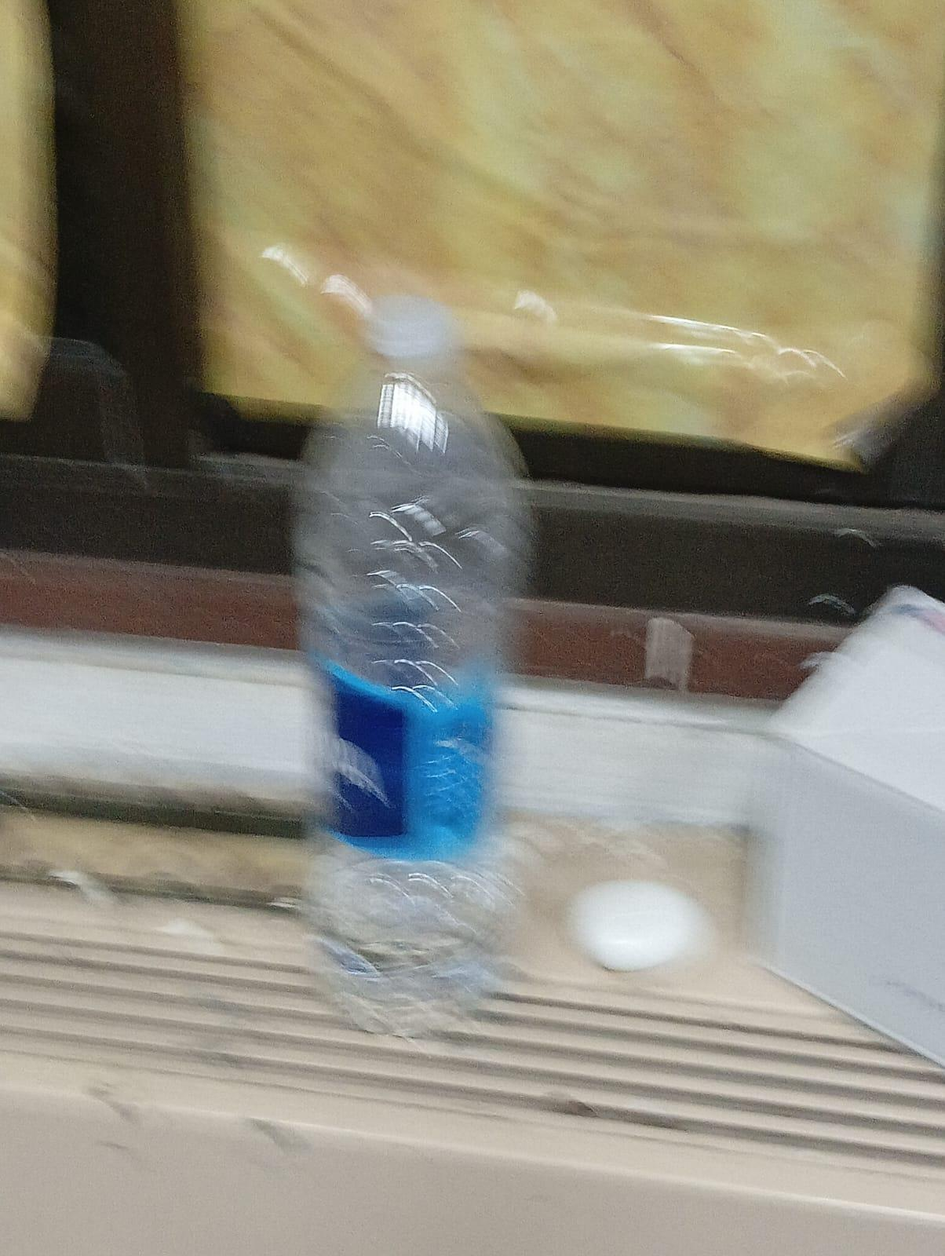Bottle: (295, 297, 526, 1034)
